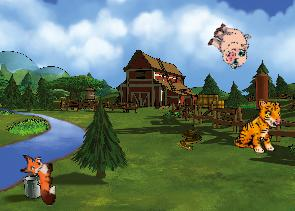fox: (19, 152, 57, 206)
pig: (202, 18, 257, 72)
tiger: (234, 98, 283, 155)
